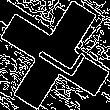L_NW: (25, 28, 85, 82)
